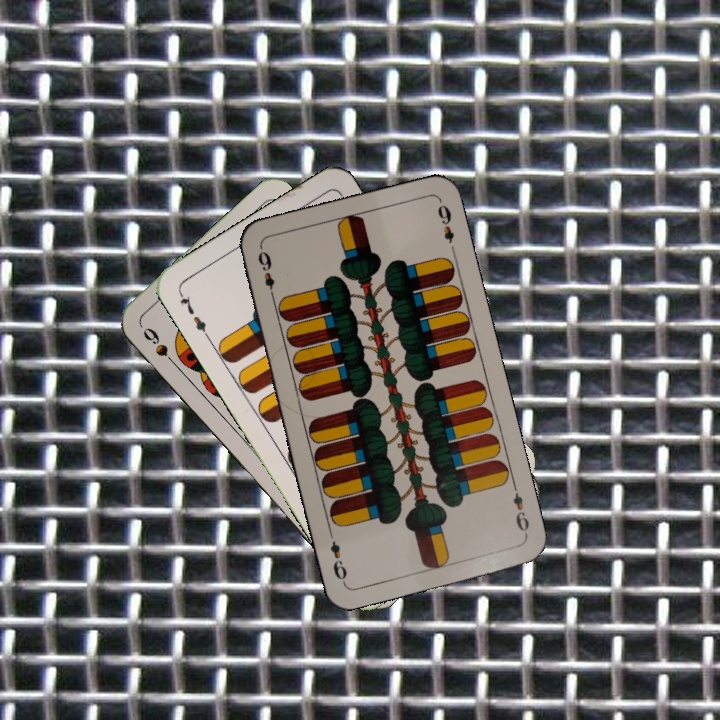E7: (175, 288, 212, 341)
E9: (254, 244, 278, 303), (508, 480, 532, 538)
S9: (139, 323, 182, 372)
